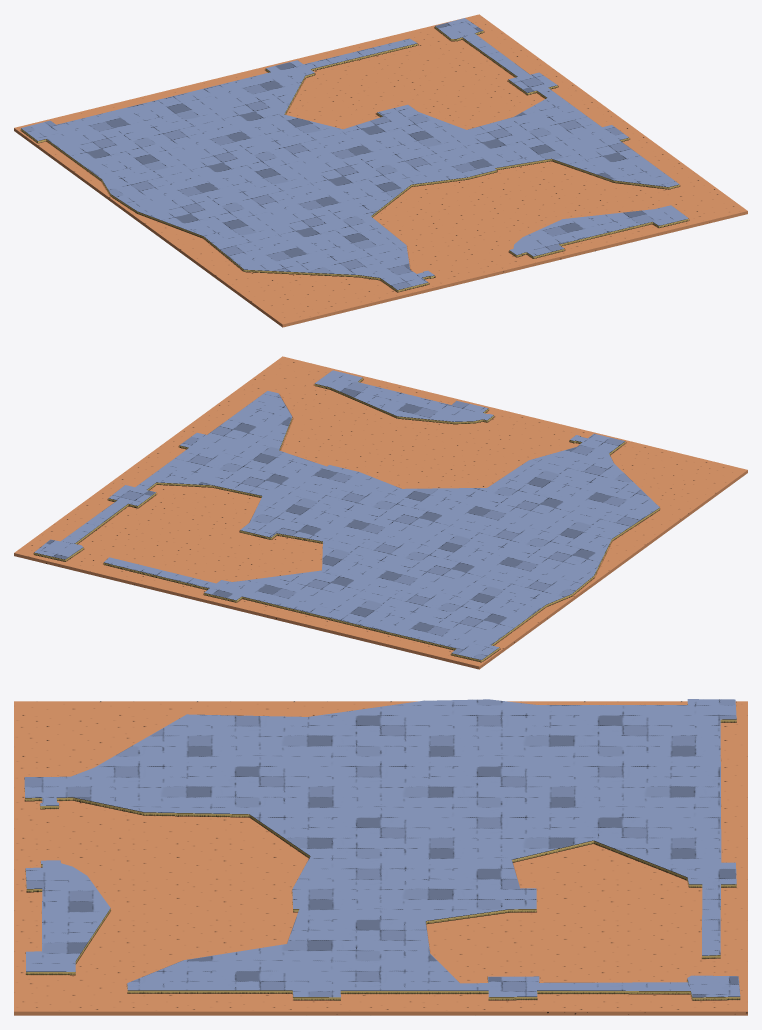
Rendered from Floor_Tiles_Small.glb.
3 renders of one model, top to bottom at view 1: azimuth 30°, elevation 25°; view 2: azimuth 150°, elevation 25°; view 3: azimuth 270°, elevation 25°, orthographic. The views are drawn at different scales.
Parts seen in each view (by area): view 1: Floor_Tiles_Small; view 2: Floor_Tiles_Small; view 3: Floor_Tiles_Small.
Boxes of the visible parts, x1,y1,x2,y2 form: Floor_Tiles_Small: (14, 14, 747, 327); Floor_Tiles_Small: (14, 356, 747, 669); Floor_Tiles_Small: (14, 699, 747, 1015).
Bounding box in the file's own units: 16 × 0.1922 × 16.
4 materials, 4 textured.
